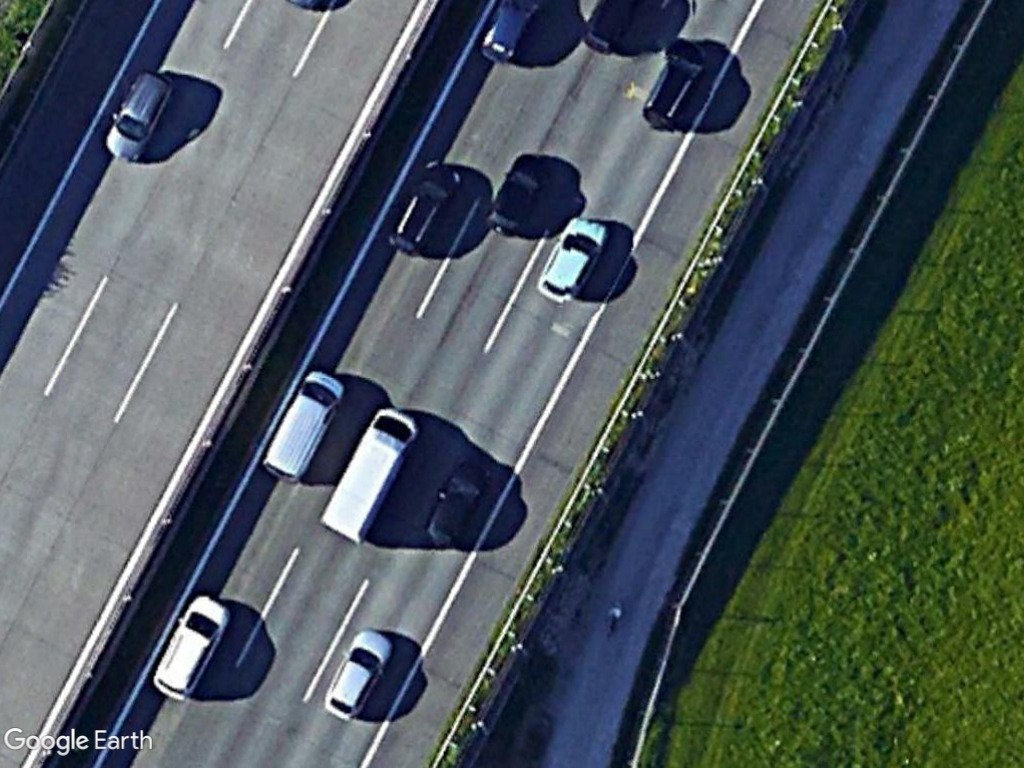car: (146, 584, 235, 708), (97, 62, 177, 169), (381, 151, 461, 258), (318, 624, 398, 727), (419, 454, 495, 556), (635, 37, 712, 134), (533, 213, 612, 306), (479, 148, 552, 243)
van: (315, 401, 423, 547), (264, 362, 344, 484)
